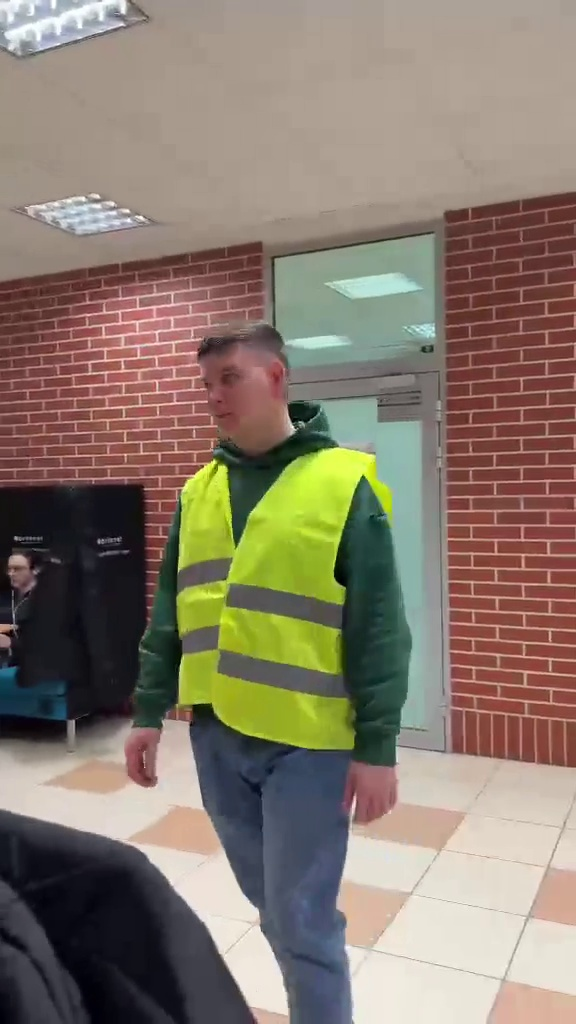vest: (128, 324, 407, 1018)
